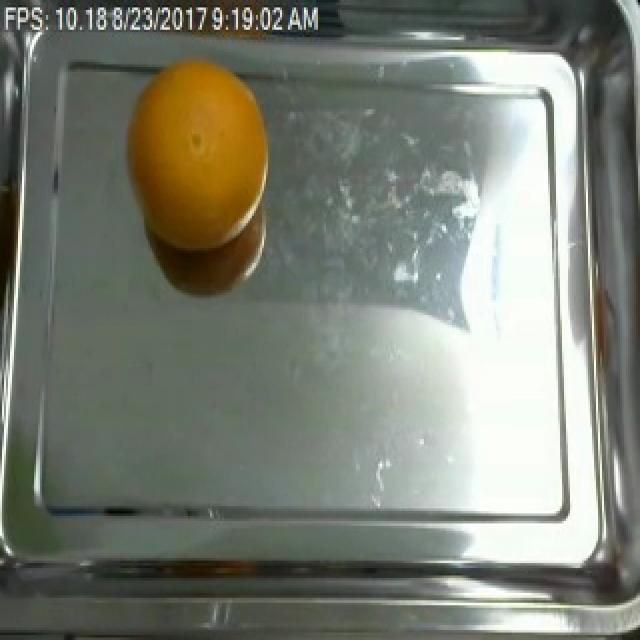Fruit: (118, 50, 276, 263)
